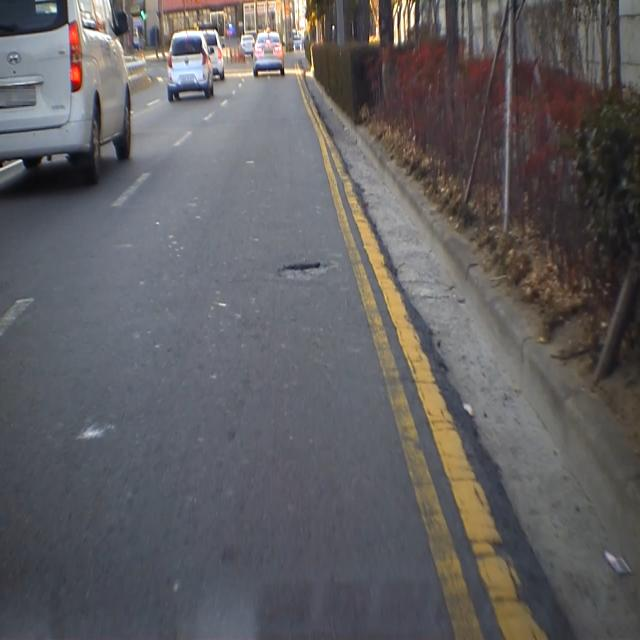Pothole: (278, 258, 340, 288)
